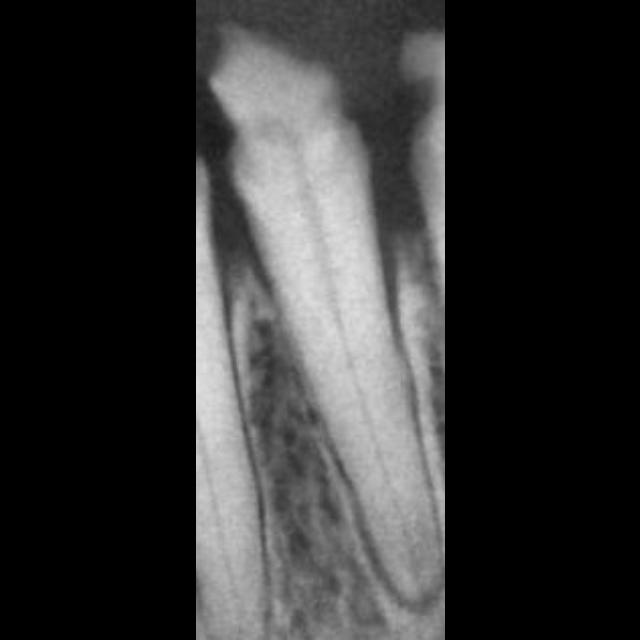tooth: (206, 17, 442, 602)
